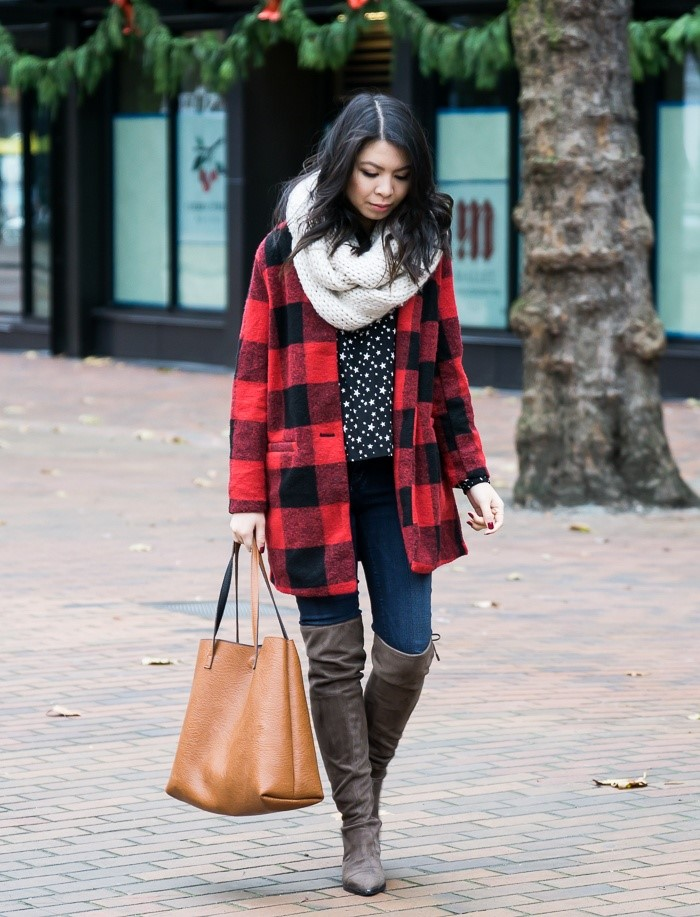face_no_mask: (328, 100, 433, 237)
